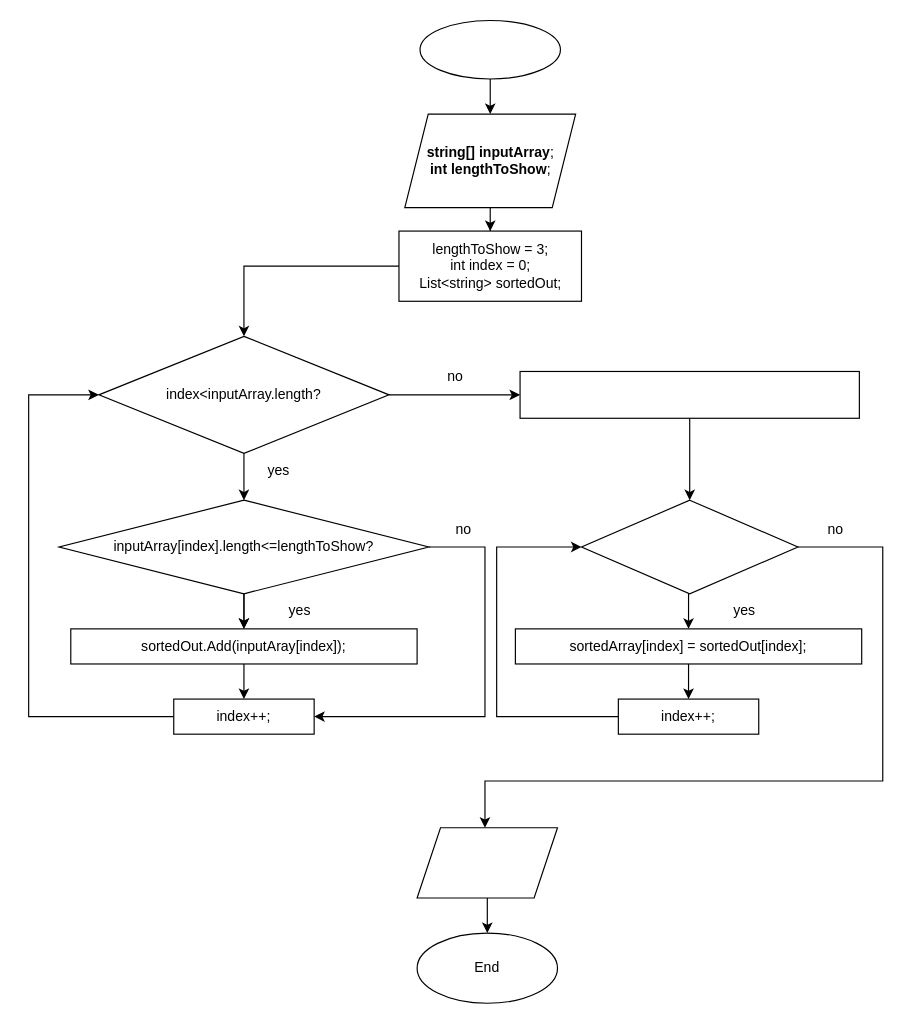
This 913x1024 diagram has some shape labels left out. Here are the shapes that lost their labels. From the top down, the centre of each, then its label:
the point at 489,49: Start
the point at 689,394: index =0; string[] sortedArray= new string[sortedOut.Count];
the point at 689,546: index<sortedOut.Count?
the point at 487,862: sortedArray
